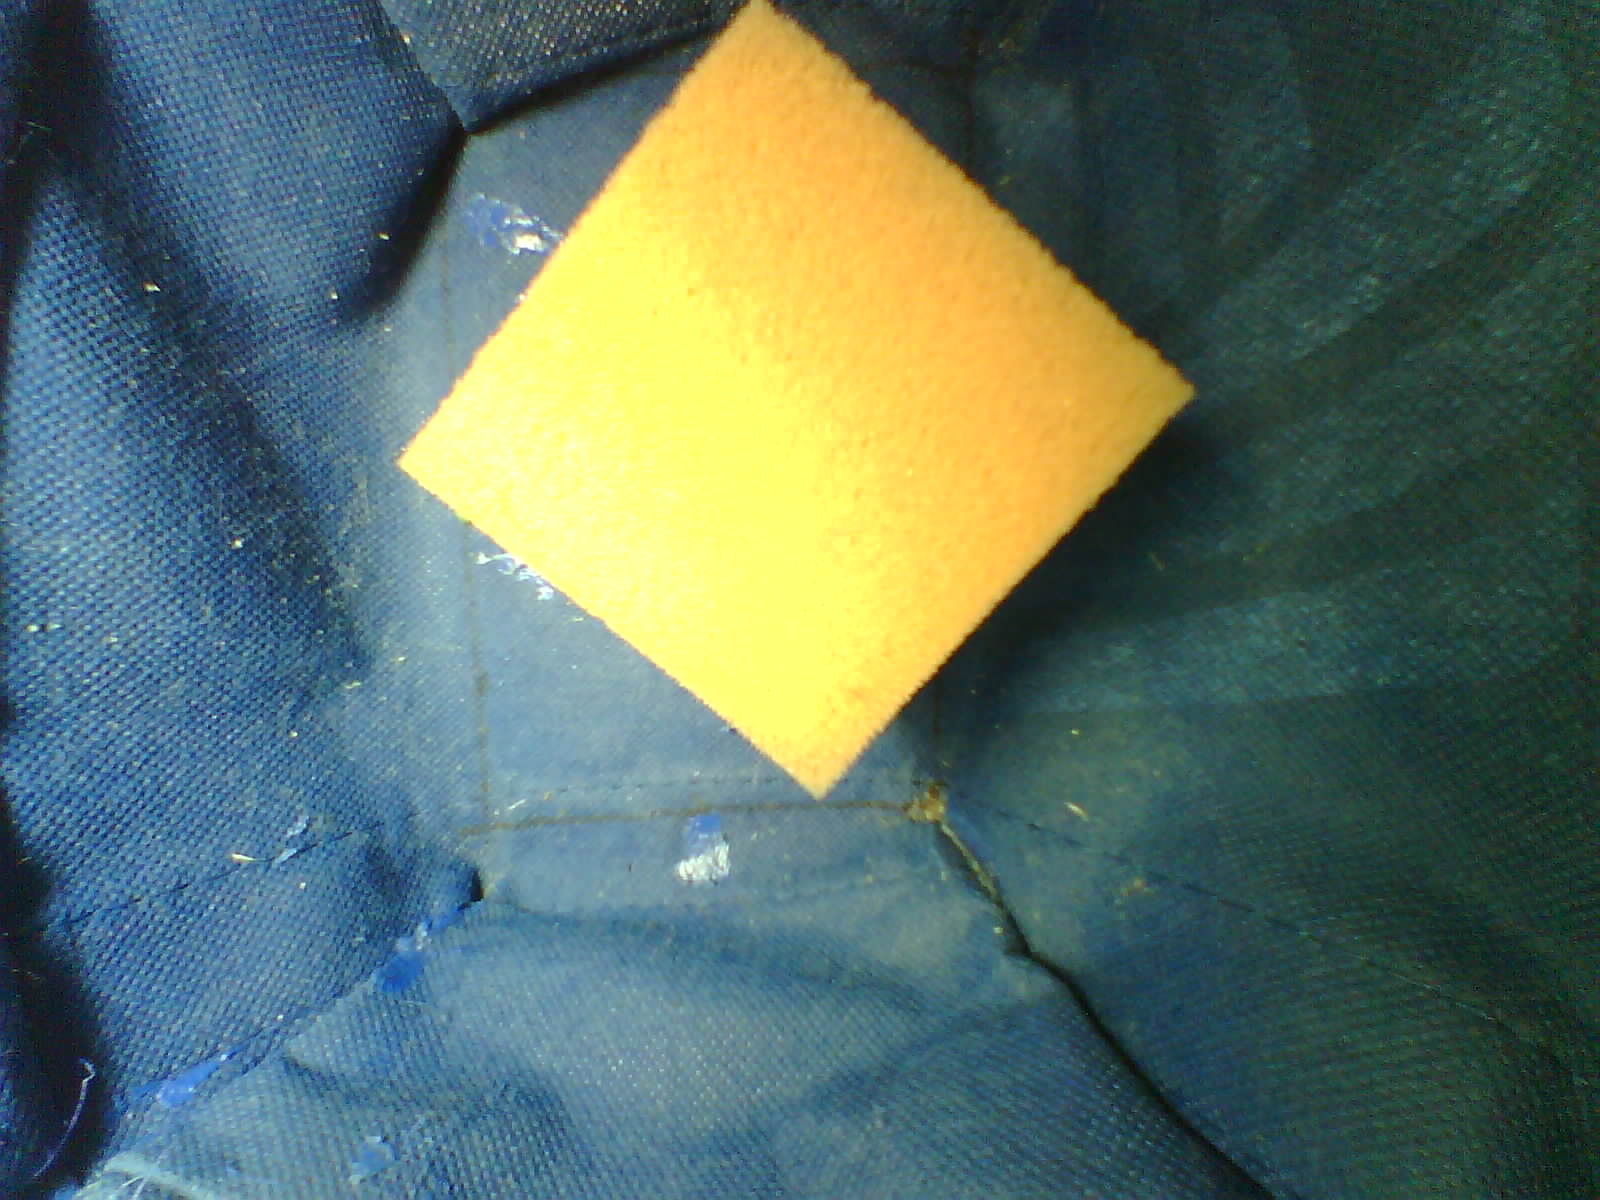cube-soft: (379, 0, 1204, 823)
